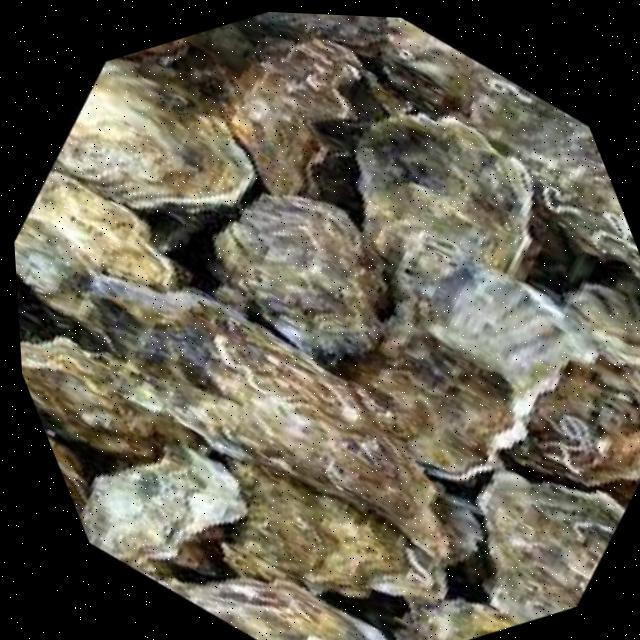Oyster-Closed: (227, 39, 374, 225)
Oyster-Indeterminate: (64, 185, 411, 506), (300, 192, 618, 506), (171, 311, 446, 570), (313, 78, 570, 313), (17, 284, 237, 519), (53, 400, 291, 616), (196, 421, 431, 628), (8, 131, 211, 368), (433, 418, 640, 638), (125, 490, 407, 640), (445, 48, 623, 247), (54, 58, 257, 217), (214, 195, 393, 366), (347, 15, 494, 132), (241, 11, 436, 95), (370, 561, 553, 640)
